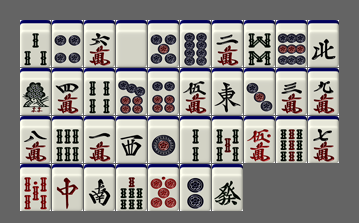0m: (244, 116, 275, 163)
0p: (148, 164, 179, 211)
0s: (20, 164, 51, 211)
1m: (84, 116, 115, 163)
1p: (148, 116, 179, 163)
1s: (20, 68, 51, 115)
1z: (212, 68, 243, 115)
2m: (212, 20, 243, 67)
2p: (180, 164, 211, 211)
2s: (180, 116, 211, 163)
2z: (84, 164, 115, 211)
3m: (276, 68, 307, 115)
3p: (244, 68, 275, 115)
3s: (20, 20, 51, 67)
3z: (116, 116, 147, 163)
4m: (52, 68, 83, 115)
4p: (52, 20, 83, 67)
4s: (84, 68, 115, 115)
4z: (308, 20, 339, 67)
5m: (180, 68, 211, 115)
5p: (148, 20, 179, 67)
5s: (212, 116, 243, 163)
5z: (116, 20, 147, 67)
6m: (84, 20, 115, 67)
6p: (148, 68, 179, 115)
6s: (52, 116, 83, 163)
6z: (212, 164, 243, 211)
7m: (308, 116, 339, 163)
7p: (116, 68, 147, 115)
7s: (116, 164, 147, 211)
7z: (52, 164, 83, 211)
8m: (20, 116, 51, 163)
8p: (180, 20, 211, 67)
8s: (244, 20, 275, 67)
9m: (308, 68, 339, 115)
9p: (276, 20, 307, 67)
9s: (276, 116, 307, 163)
